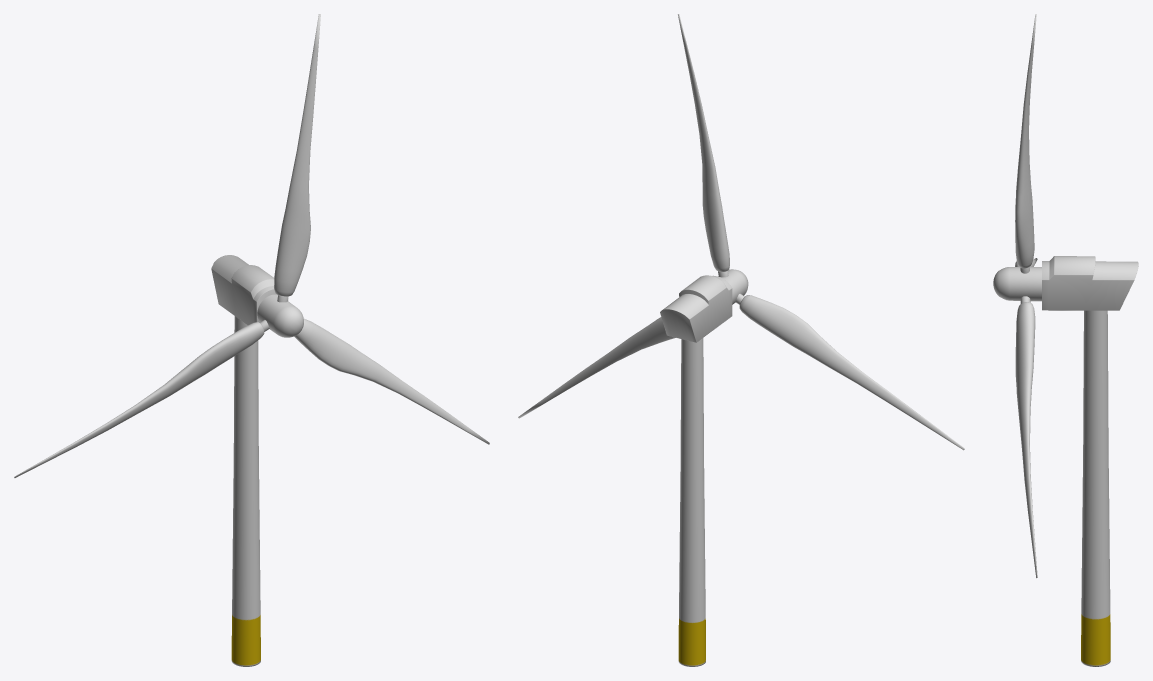
The model's file is Windrad.glb.
3 renders of one model, left to right at view 1: azimuth 30°, elevation 25°; view 2: azimuth 150°, elevation 25°; view 3: azimuth 270°, elevation 25°, orthographic. The views are drawn at different scales.
Parts seen in each view (by area): view 1: Wind Turbine Blade.Singular.007, Wind Turbine Body.001, WT Head.001, WT Blade Connector; view 2: Wind Turbine Blade.Singular.007, Wind Turbine Body.001, WT Head.001; view 3: Wind Turbine Body.001, Wind Turbine Blade.Singular.007, WT Head.001, WT Blade Connector.
Boxes of the visible parts, x1,y1,x2,y2 form: Wind Turbine Blade.Singular.007: [14, 14, 489, 478]; Wind Turbine Body.001: [231, 316, 260, 666]; WT Head.001: [211, 255, 288, 325]; WT Blade Connector: [257, 294, 303, 337]; Wind Turbine Blade.Singular.007: [518, 14, 964, 450]; Wind Turbine Body.001: [678, 338, 705, 666]; WT Head.001: [660, 275, 732, 342]; Wind Turbine Body.001: [1081, 310, 1110, 666]; Wind Turbine Blade.Singular.007: [1015, 14, 1037, 578]; WT Head.001: [1042, 256, 1138, 310]; WT Blade Connector: [993, 266, 1041, 303].
Size of the model in its own units: 131 by 174 by 34.11.
12 materials, 4 textured.
